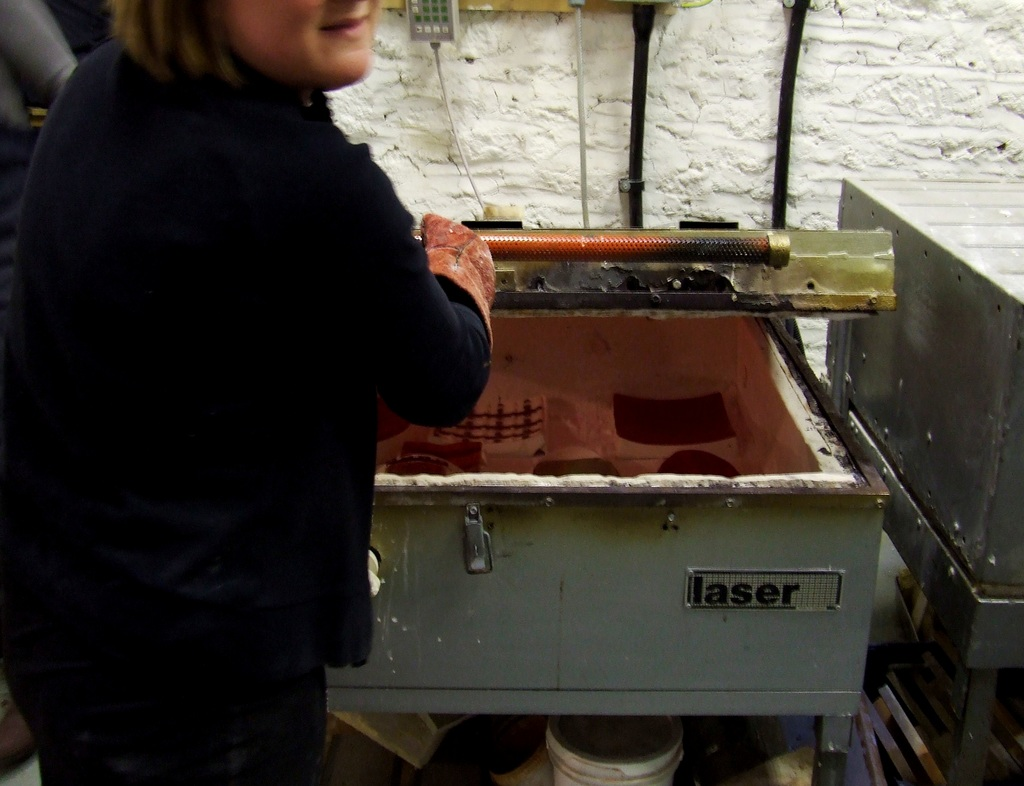Person: (0, 0, 496, 786)
